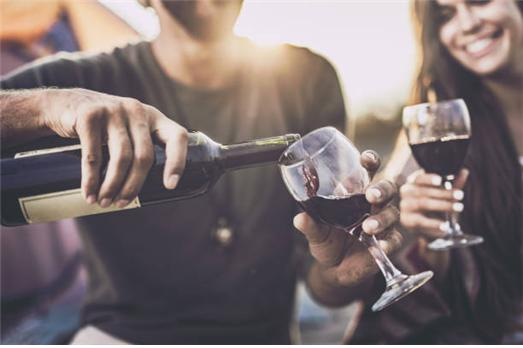alcohol: (0, 131, 302, 230), (280, 126, 435, 313), (403, 95, 487, 249)
